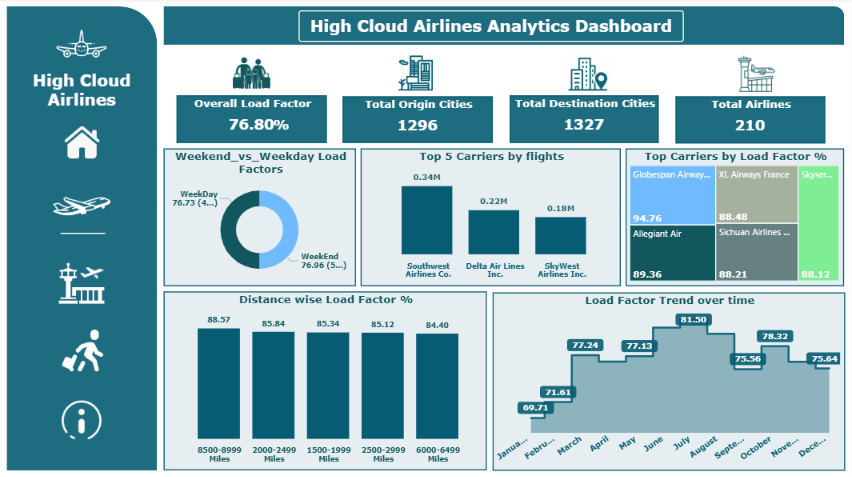

Layout of this report page (visuals, bound fields, positions):
{"tool":"powerbi","page":{"name":"HOME","canvas":[1280,720],"ordinal":1},"visuals":[{"type":"shape","box":[249.1,12.1,1019.1,57.4],"z":0},{"type":"textbox","box":[450,18.6,577.1,47.1],"z":1000},{"type":"areaChart","title":"Load Factor Trend over time","fields":{"Y":["KPI_Measures.Load_Factor_%"],"Category":["CalanderTable.Date.Variation.Date Hierarchy.Year","CalanderTable.Date.Variation.Date Hierarchy.Quarter","CalanderTable.Date.Variation.Date Hierarchy.Month","CalanderTable.Date.Variation.Date Hierarchy.Day"]},"box":[740.6,440,528,266.9],"z":2000},{"type":"card","title":"Overall Load Factor","fields":{"Values":["KPI_Measures.Load_Factor_%"]},"box":[268.2,145.5,225.1,71.4],"z":3000},{"type":"card","title":"Total Airlines","fields":{"Values":["KPI_Measures.Total_Airlines"]},"box":[1014.8,146.9,223.7,70.1],"z":4000},{"type":"donutChart","title":"Weekend_vs_Weekday Load Factors","fields":{"Y":["KPI_Measures.Load_Factor_%"],"Category":["CalanderTable.Weekend_vs_Weekday"]},"box":[248,225.1,288.4,206.2],"z":5000},{"type":"image","box":[323.2,83.5,113.2,55.9],"z":6000},{"type":"image","box":[809.4,83.5,149.5,55.9],"z":7000},{"type":"columnChart","title":"Top 5 Carriers by flights","fields":{"Category":["Fact_Airline_Data.Carrier Name"],"Y":["KPI_Measures.Total_Flights"]},"box":[543.1,225.1,389.5,206.2],"z":8000},{"type":"shape","box":[13.6,12.2,225.4,695.1],"z":9000},{"type":"image","box":[86.3,182.9,79.5,70.1],"z":10000},{"type":"image","box":[59.3,275.9,133.4,88.9],"z":11000},{"type":"image","box":[79.5,387.8,93,75.5],"z":12000},{"type":"image","box":[80.9,490.2,91.6,75.5],"z":13000},{"type":"image","box":[91.6,598.4,68.7,66],"z":14000},{"type":"textbox","box":[13.5,103.8,225.1,78.2],"z":15000},{"type":"image","box":[33.7,32.3,186,75.5],"z":16000},{"type":"card","title":"Total Origin Cities","fields":{"Values":["KPI_Measures.Total_Origin_Cities"]},"box":[516.5,146.9,225,69.5],"z":17000},{"type":"card","title":"Total Destination Cities","fields":{"Values":["KPI_Measures.Total_Destination_Cities"]},"box":[767.1,145.4,223.4,71],"z":18000},{"type":"image","box":[551.2,83.5,149.5,55.9],"z":19000},{"type":"image","box":[1061.5,83.5,149.5,55.9],"z":20000},{"type":"textbox","box":[407.6,173.1,40.3,37.8],"z":21000},{"type":"treemap","title":"Top Carriers by Load Factor %","fields":{"Group":["Fact_Airline_Data.Carrier Name"],"Values":["KPI_Measures.Load_Factor_%"]},"box":[940.7,225.1,327.5,206.2],"z":22000},{"type":"clusteredColumnChart","title":"Distance wise Load Factor %","fields":{"Category":["Distance Groups.Distance Interval"],"Y":["KPI_Measures.Load_Factor_%"]},"box":[247.8,438.5,484,268.4],"z":23000}]}

Visuals, with their boxes in screenshot pixels (x1, y1, x2, y2), scaled from the page's 1280x720 canvas onto the 852x477 screenshot:
shape: left=166, top=8, right=844, bottom=46
textbox: left=300, top=12, right=684, bottom=44
"Load Factor Trend over time" areaChart: left=493, top=292, right=844, bottom=468
"Overall Load Factor" card: left=179, top=96, right=328, bottom=144
"Total Airlines" card: left=675, top=97, right=824, bottom=144
"Weekend_vs_Weekday Load Factors" donutChart: left=165, top=149, right=357, bottom=286
image: left=215, top=55, right=290, bottom=92
image: left=539, top=55, right=638, bottom=92
"Top 5 Carriers by flights" columnChart: left=362, top=149, right=621, bottom=286
shape: left=9, top=8, right=159, bottom=469
image: left=57, top=121, right=110, bottom=168
image: left=39, top=183, right=128, bottom=242
image: left=53, top=257, right=115, bottom=307
image: left=54, top=325, right=115, bottom=375
image: left=61, top=396, right=107, bottom=440
textbox: left=9, top=69, right=159, bottom=121
image: left=22, top=21, right=146, bottom=71
"Total Origin Cities" card: left=344, top=97, right=494, bottom=143
"Total Destination Cities" card: left=511, top=96, right=659, bottom=143
image: left=367, top=55, right=466, bottom=92
image: left=707, top=55, right=806, bottom=92
textbox: left=271, top=115, right=298, bottom=140
"Top Carriers by Load Factor %" treemap: left=626, top=149, right=844, bottom=286
"Distance wise Load Factor %" clusteredColumnChart: left=165, top=291, right=487, bottom=468
